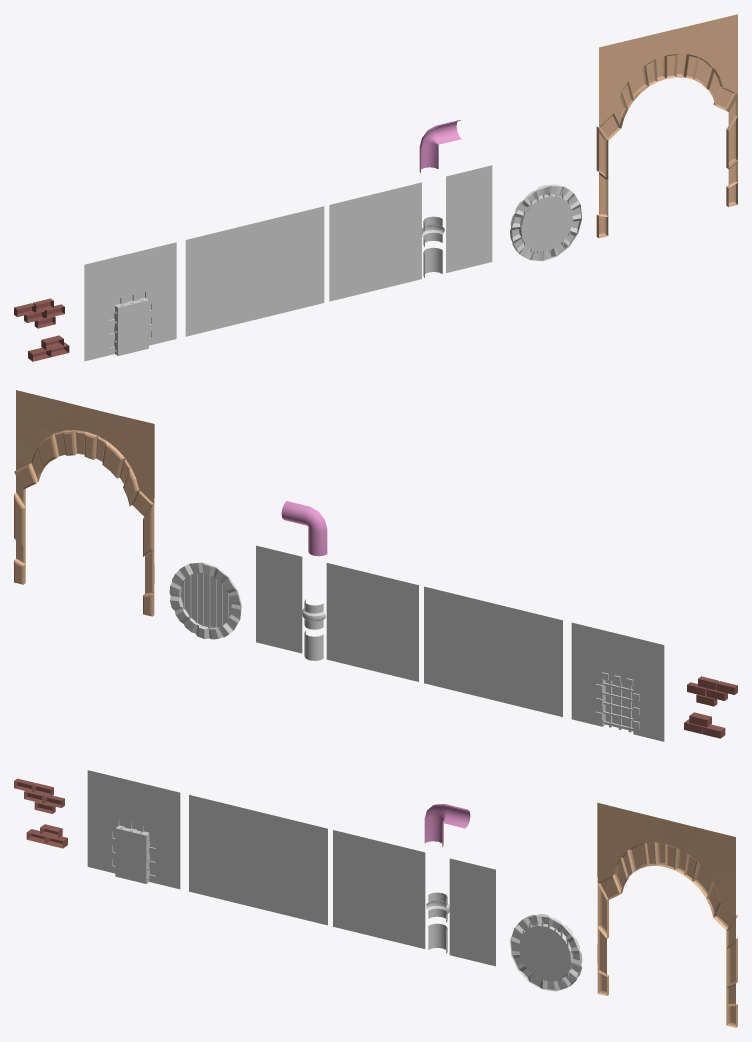
Rendered from Paredes fondo 1.fbx.
The picture shows the model from 3 angles, top to bottom: view 1: azimuth 30°, elevation 25°; view 2: azimuth 150°, elevation 25°; view 3: azimuth 330°, elevation 25°; orthographic projection.
Parts seen in each view (by area): view 1: pared 4x6, Plane.003, pared 4x4.001, pared 4x4, pared 4x2, Cube.003, Cylinder.002, Cube.044, Cube.045; view 2: pared 4x6, Plane.003, pared 4x4.001, pared 4x4, pared 4x2, Cube.003, Cylinder.002, Cube.044, Cube.045; view 3: pared 4x6, Plane.003, pared 4x4.001, pared 4x4, pared 4x2, Cube.003, Cylinder.002, Cube.044, Cube.045, Cylinder.001, Cylinder.
Boxes of the visible parts, box(x1,y1,x2,y2) form: pared 4x6: box(185, 206, 324, 336); Plane.003: box(596, 14, 737, 238); pared 4x4.001: box(84, 242, 176, 361); pared 4x4: box(329, 182, 421, 301); pared 4x2: box(446, 165, 492, 272); Cube.003: box(510, 184, 581, 261); Cylinder.002: box(419, 120, 461, 173); Cube.044: box(14, 298, 64, 328); Cube.045: box(28, 335, 69, 361); pared 4x6: box(424, 586, 562, 716); Plane.003: box(14, 390, 154, 616); pared 4x4.001: box(571, 622, 664, 741); pared 4x4: box(326, 563, 418, 681); pared 4x2: box(256, 545, 302, 653); Cube.003: box(169, 562, 241, 639); Cylinder.002: box(281, 501, 327, 556); Cube.044: box(687, 676, 737, 706); Cube.045: box(684, 712, 725, 738); pared 4x6: box(189, 795, 327, 925); Plane.003: box(597, 802, 737, 1027); pared 4x4.001: box(87, 770, 180, 889); pared 4x4: box(333, 830, 425, 948); pared 4x2: box(449, 858, 495, 966); Cube.003: box(510, 914, 582, 991); Cylinder.002: box(424, 804, 470, 846); Cube.044: box(14, 778, 64, 813); Cube.045: box(26, 824, 67, 848); Cylinder.001: box(426, 892, 449, 922); Cylinder: box(428, 923, 447, 953).
Bounding box in the file's own units: 3120 × 830 × 84.14.
